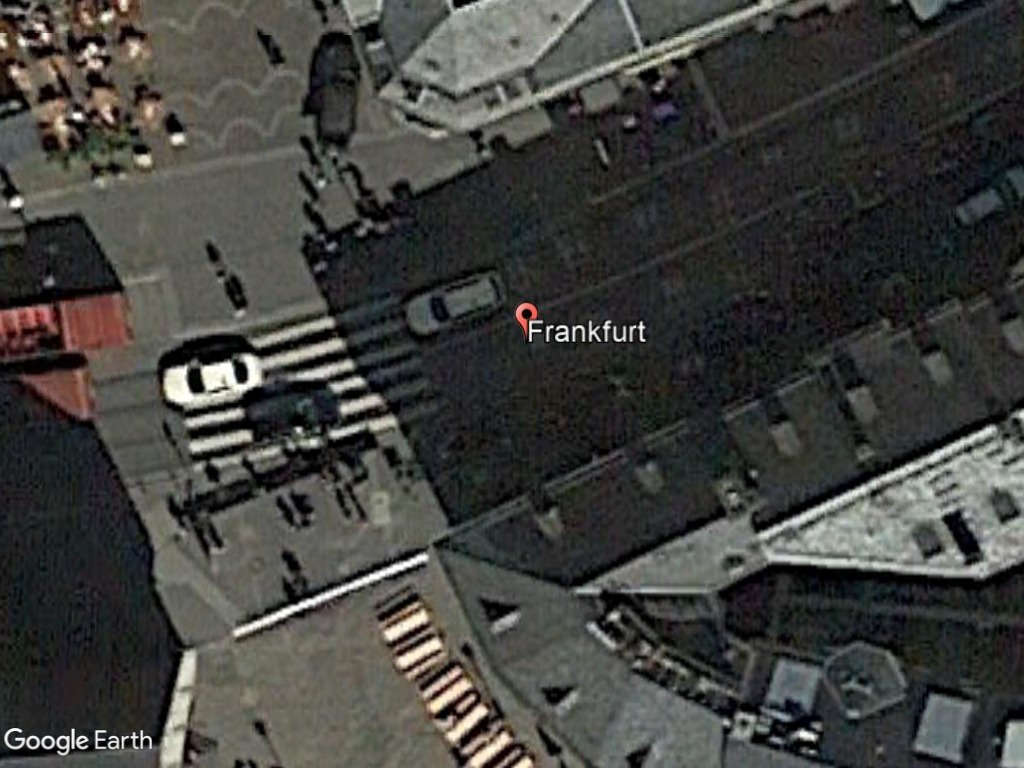car: (400, 263, 511, 341), (155, 349, 269, 411)
